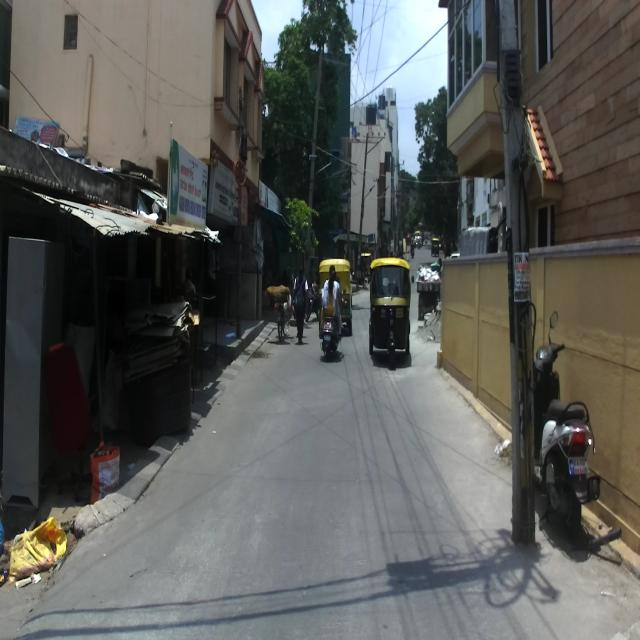auto ahead at: (364, 254, 414, 372)
electric pole ahead at: (492, 0, 542, 552)
motorcycle ahead at: (534, 323, 601, 536)
